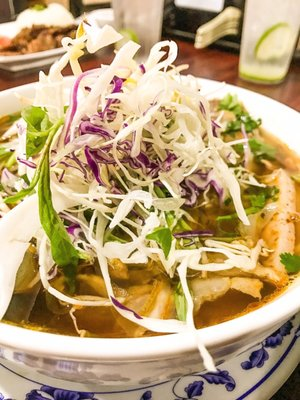pizza: (237, 0, 300, 86), (111, 0, 166, 58)
sushi: (28, 62, 300, 388)
